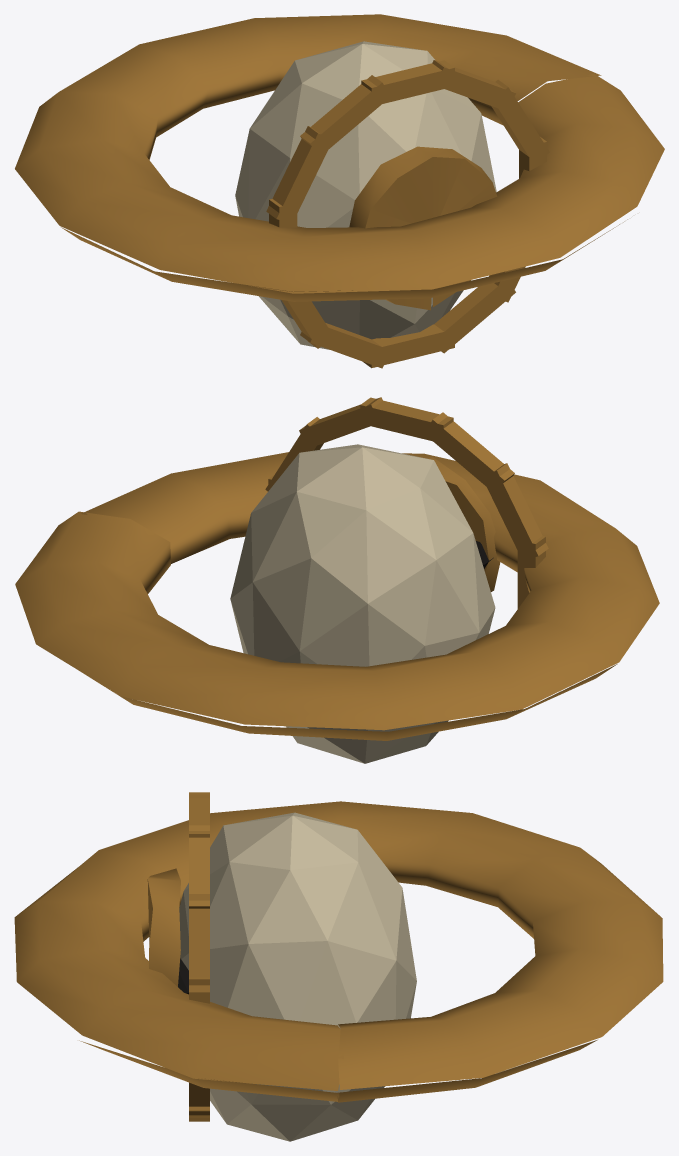
Rendered from stone-wanderer-sun-disc-halo-v1.glb.
The picture shows the model from 3 angles, top to bottom: view 1: azimuth 30°, elevation 25°; view 2: azimuth 150°, elevation 25°; view 3: azimuth 270°, elevation 25°; orthographic projection. The views are drawn at different scales.
Parts seen in each view (by area): view 1: Part_1, Part_0, Part_2, Part_8, Part_7, Part_13, Part_6, Part_12, Part_5, Part_4, Part_11, Part_10 (+2 smaller); view 2: Part_1, Part_0, Part_6, Part_2, Part_7, Part_8, Part_5, Part_9, Part_4; view 3: Part_1, Part_0, Part_2, Part_4, Part_5, Part_6, Part_14.
Part boxes in pixels (x1,y1,x2,y2): Part_1: (15, 14, 664, 301); Part_0: (235, 41, 496, 349); Part_2: (349, 146, 497, 310); Part_8: (266, 126, 333, 224); Part_7: (300, 75, 390, 156); Part_13: (434, 280, 515, 353); Part_6: (361, 60, 454, 106); Part_12: (363, 324, 454, 368); Part_5: (432, 60, 515, 111); Part_4: (491, 79, 549, 162); Part_11: (300, 323, 389, 368); Part_10: (281, 300, 333, 348); Part_1: (15, 452, 659, 740); Part_0: (230, 444, 495, 763); Part_6: (360, 397, 453, 443); Part_2: (426, 457, 500, 591); Part_7: (424, 412, 514, 494); Part_8: (487, 463, 548, 559); Part_5: (299, 397, 382, 448); Part_9: (517, 536, 545, 608); Part_4: (265, 417, 323, 491); Part_1: (14, 801, 663, 1102); Part_0: (179, 812, 416, 1141); Part_2: (147, 868, 180, 986); Part_4: (189, 894, 209, 992); Part_5: (189, 825, 209, 908); Part_6: (189, 792, 209, 837); Part_14: (189, 1082, 209, 1115).
Bounding box in the file's own units: 0.9481 × 0.5059 × 0.9229.
